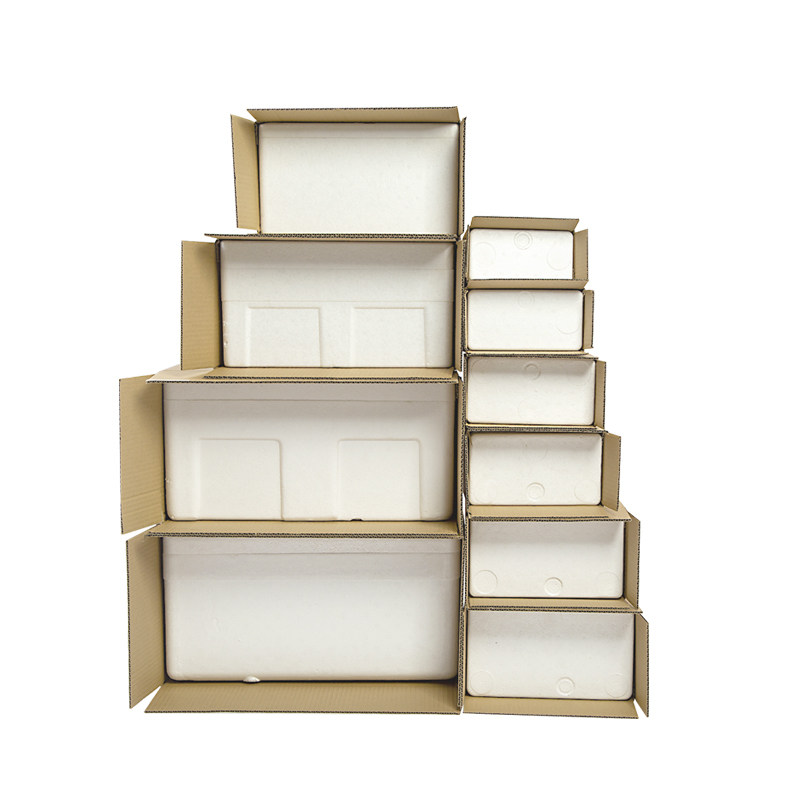泡沫箱: (119, 107, 648, 717)
